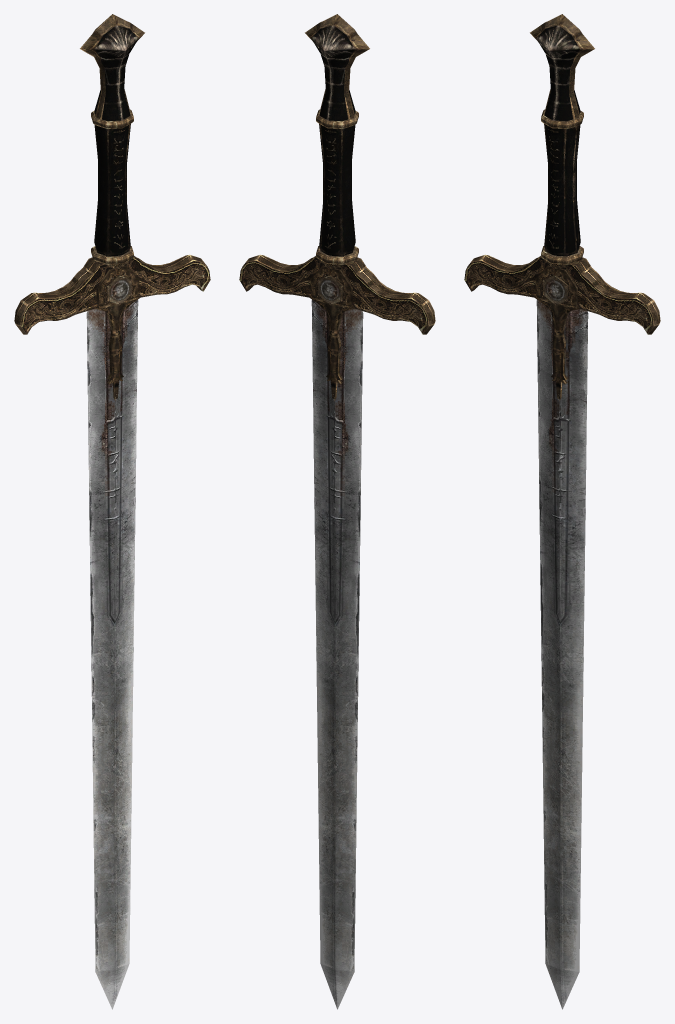
The model's file is Player_Sword.fbx.
3 renders of one model, left to right at view 1: azimuth 30°, elevation 25°; view 2: azimuth 150°, elevation 25°; view 3: azimuth 330°, elevation 25°, orthographic.
Visible parts, largest first — view 1: WP_A_0271; view 2: WP_A_0271; view 3: WP_A_0271.
Part boxes in pixels (left/top/right/bottom): WP_A_0271: left=14, top=14, right=210, bottom=1009; WP_A_0271: left=239, top=14, right=435, bottom=1009; WP_A_0271: left=464, top=14, right=660, bottom=1009.
Size of the model in its own units: 0.2282 by 1.12 by 0.0545.
